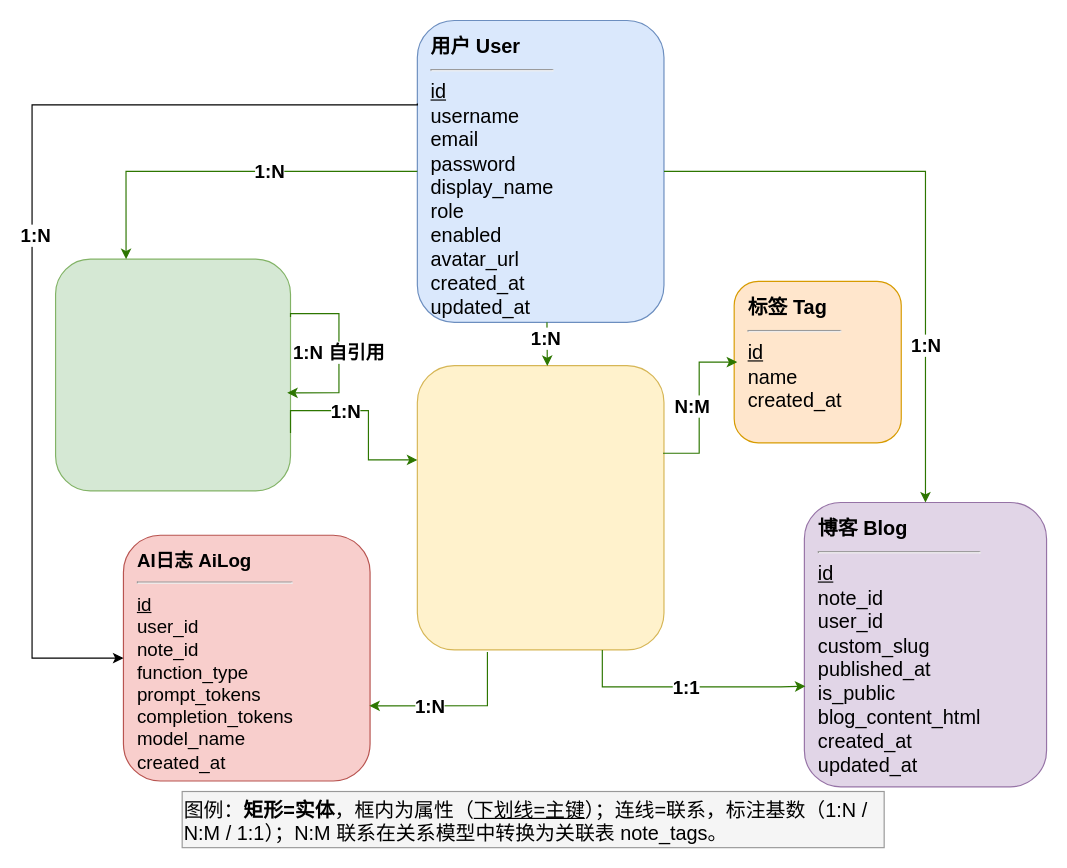
The diagram is 1067 pixels wide and 868 high, and some of its shapes have lost their labels. The box of each missing label's shape, as (x1, y1, x2, y2) in pixels:
文件夹 Folder id user_id name parent_id sort_order created_at updated_at: (54, 258, 291, 491)
笔记 Note id user_id folder_id title content pinned version created_at updated_at: (416, 364, 664, 650)
